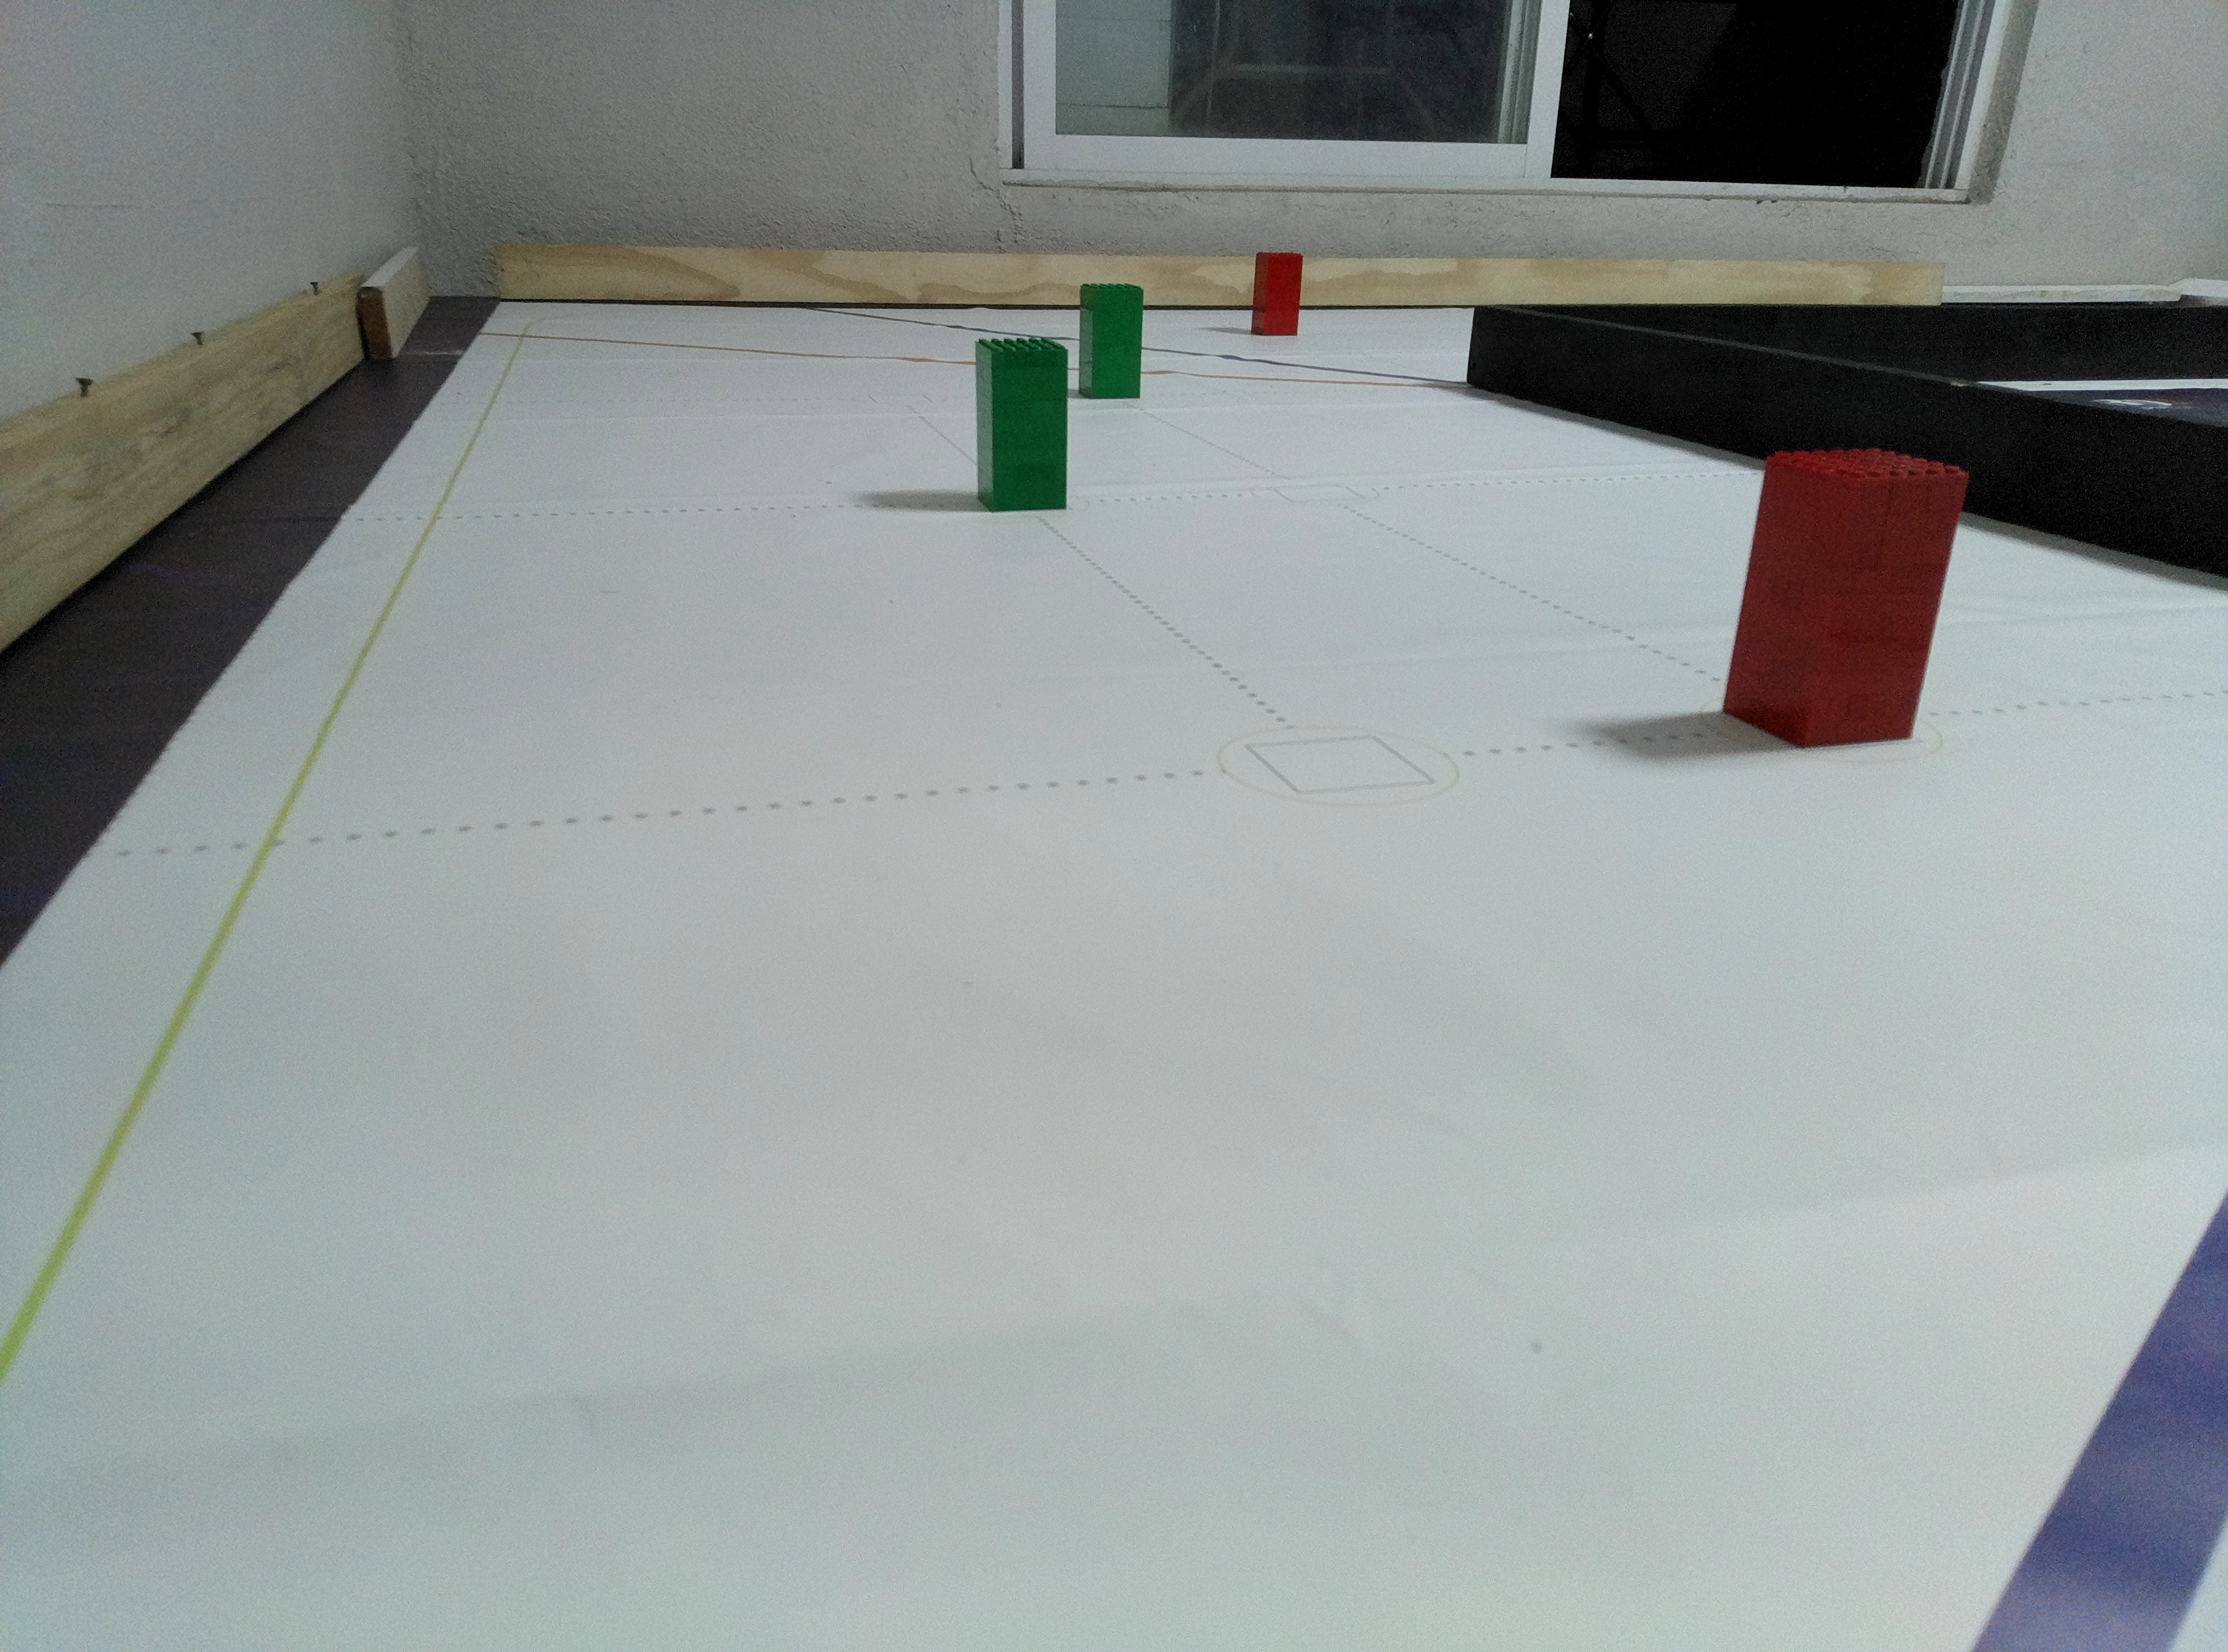greenbox: (972, 335, 1069, 512), (1079, 283, 1143, 399)
redbox: (1720, 448, 1969, 748), (1249, 252, 1305, 337)
